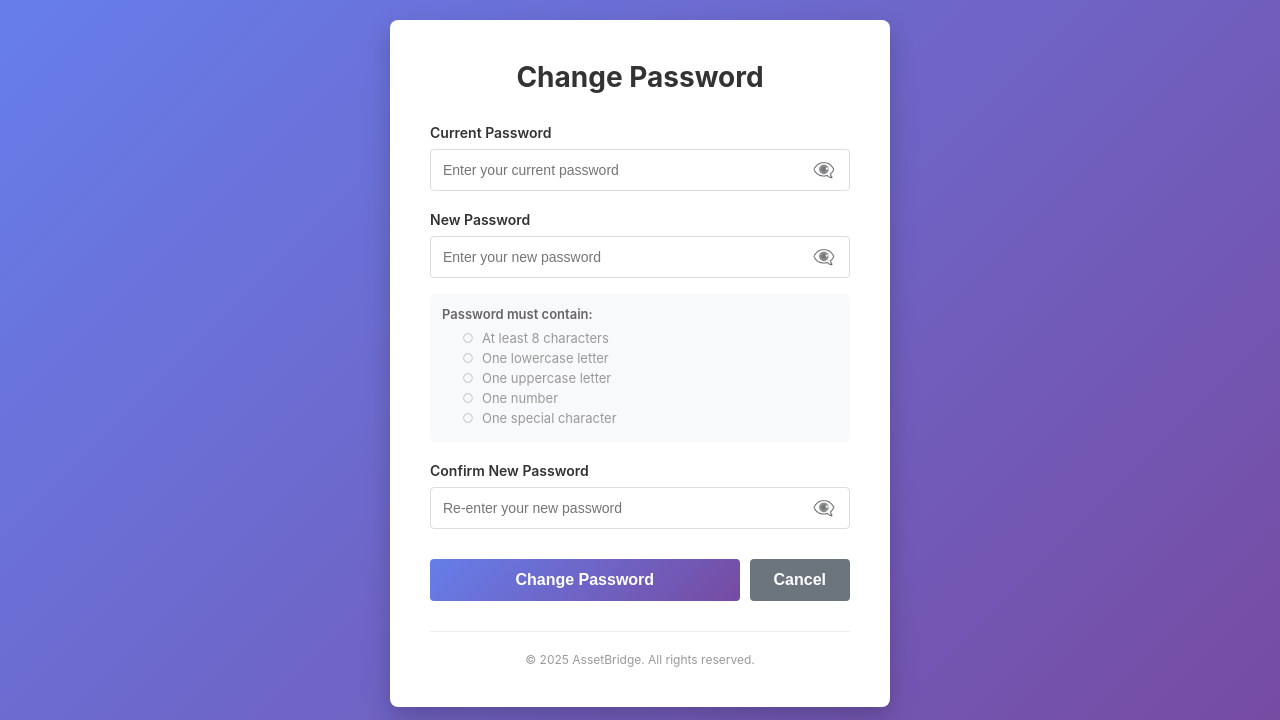
it: ChangePassword Component › should disable form during password change
Expected: the heading "Change Password" is shown, [516,60,764,94]
Type "OldPassword123!" into the password field labelled "Current Password" at (640,170), box [430,149,850,191]
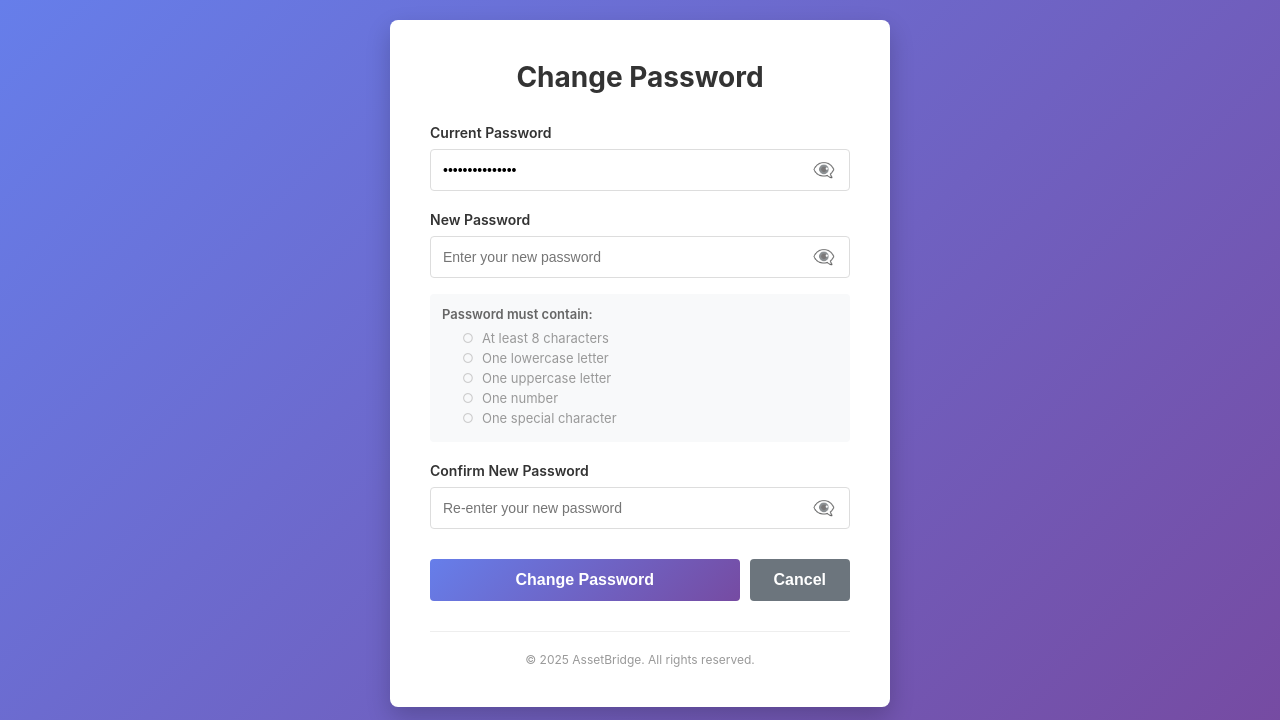
Type "NewPassword123!" into the password field labelled "New Password" at (640,257), box [430,236,850,278]
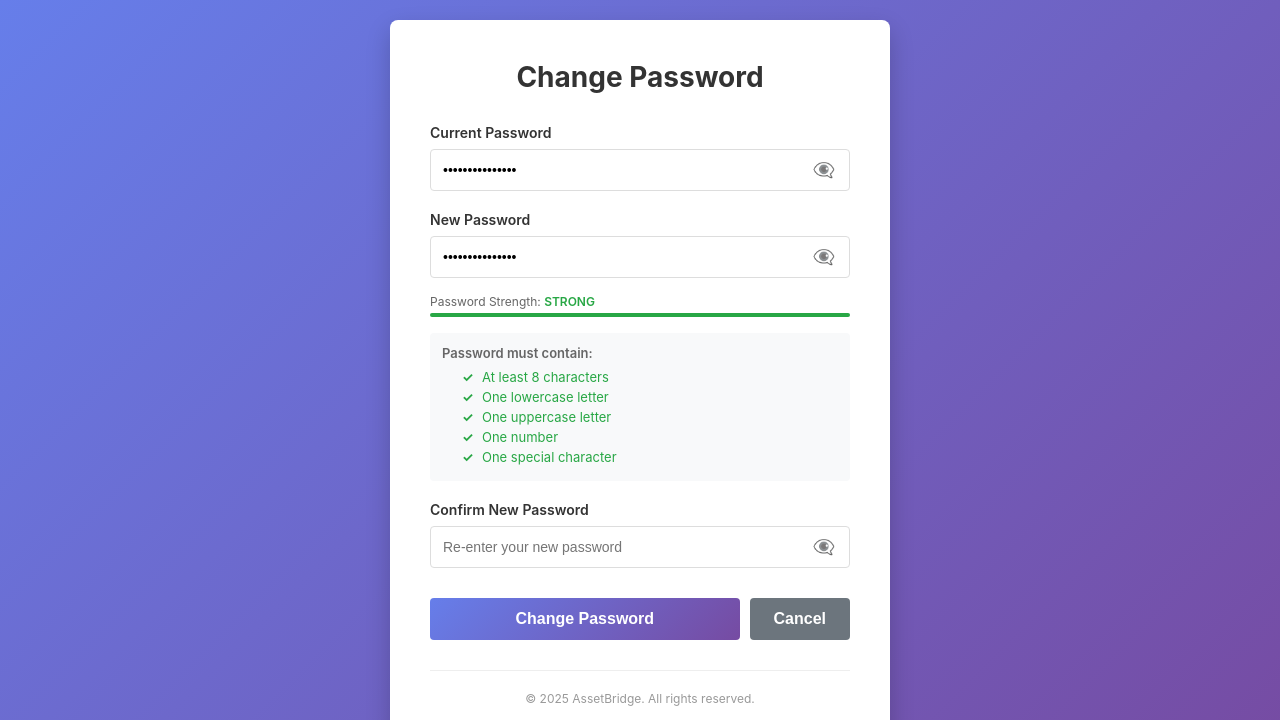
Type "NewPassword123!" into the password field labelled "Confirm New Password" at (640,547), box [430,526,850,568]
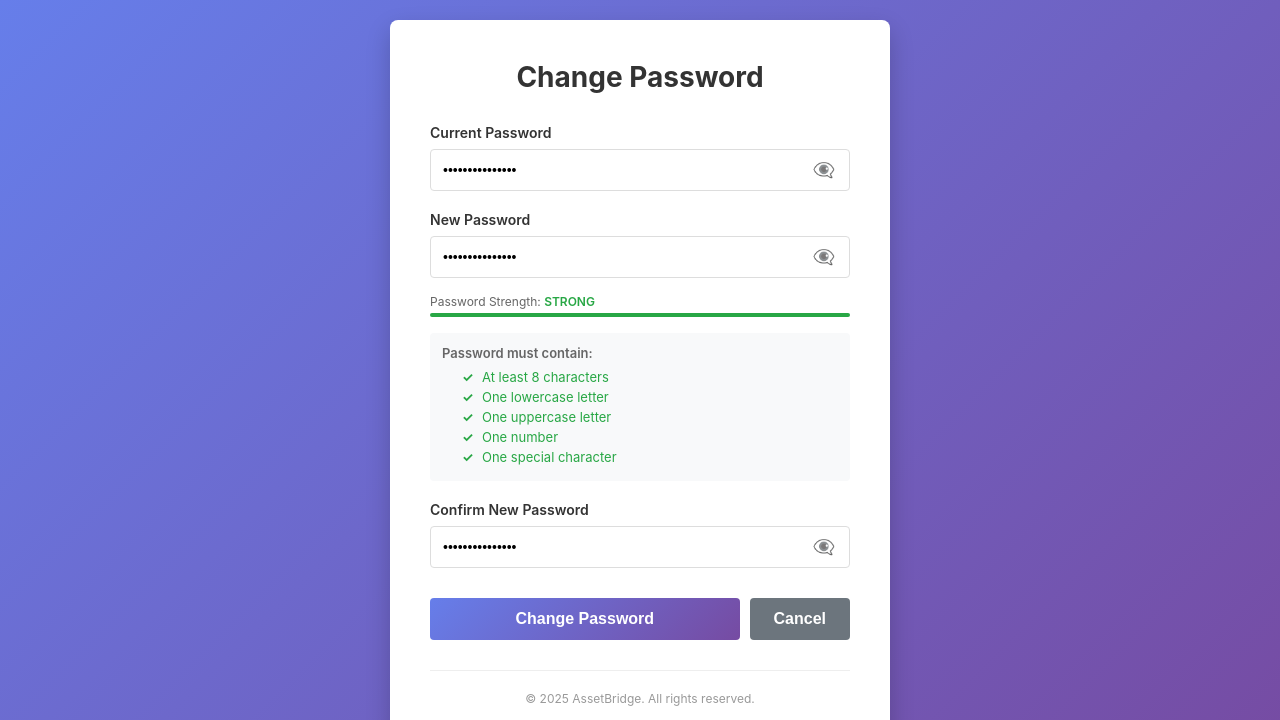
Click the button "Change Password" at (585,619), box [430,598,740,640]
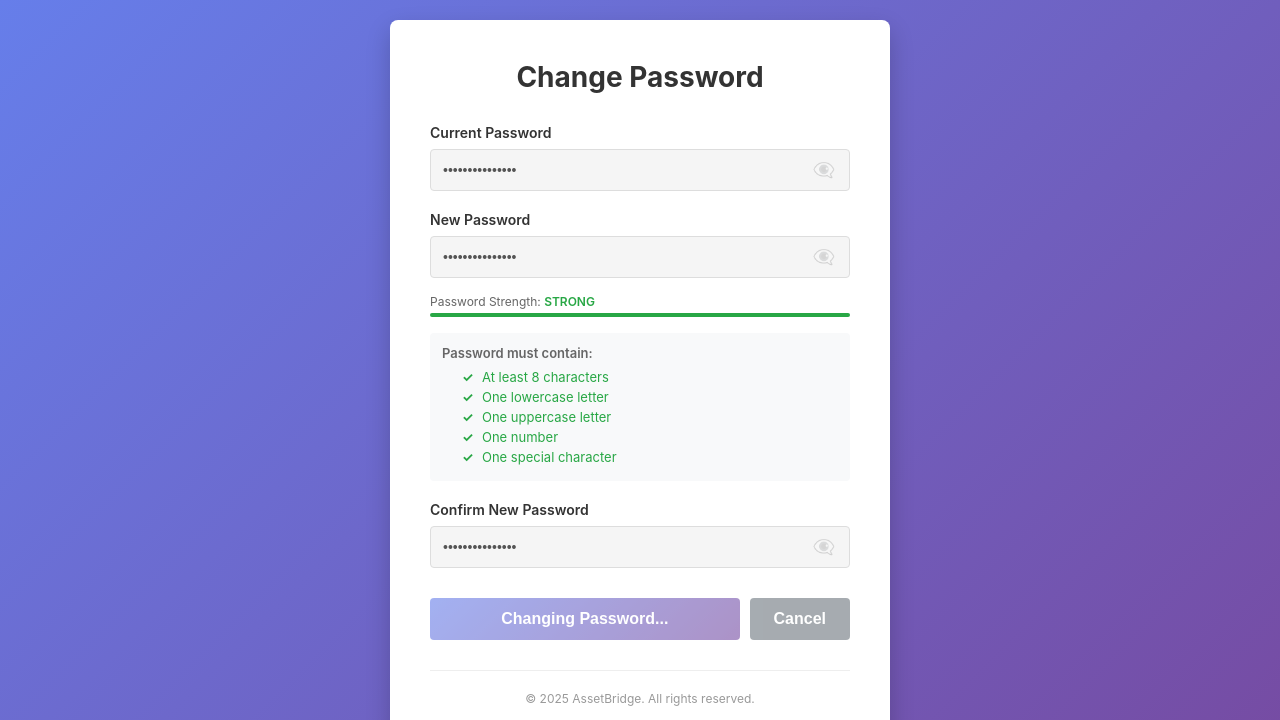
Expected: the button "Changing Password..." is disabled, [430,598,740,640]
